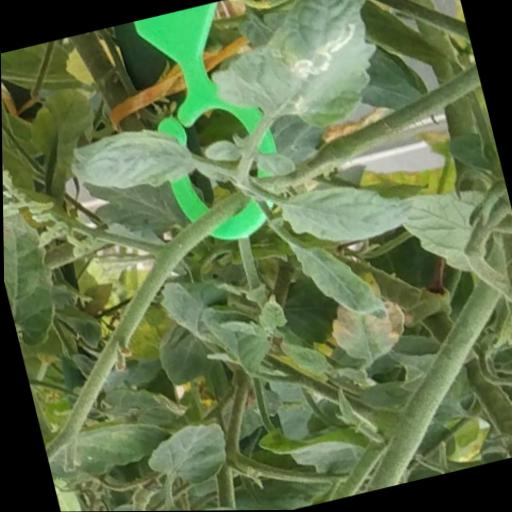Healthy: (271, 163, 424, 261), (59, 111, 205, 205), (137, 415, 232, 495)
Leaf_Miner: (192, 0, 391, 151)
